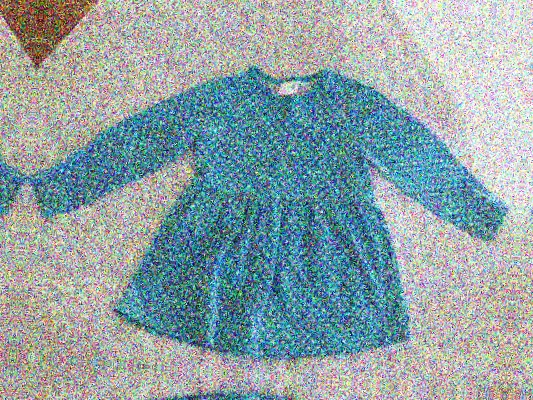Dress: (24, 49, 530, 383), (0, 371, 503, 400), (0, 7, 27, 341), (506, 89, 533, 400), (0, 330, 1, 400)
